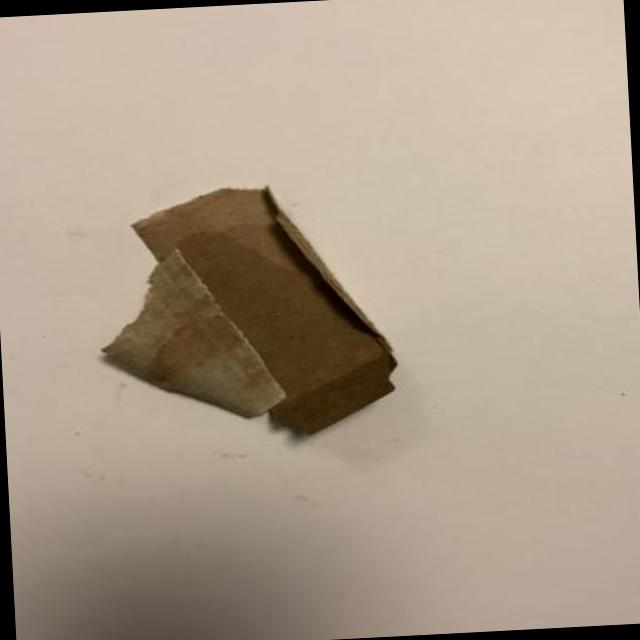cardboard: (105, 189, 394, 433)
